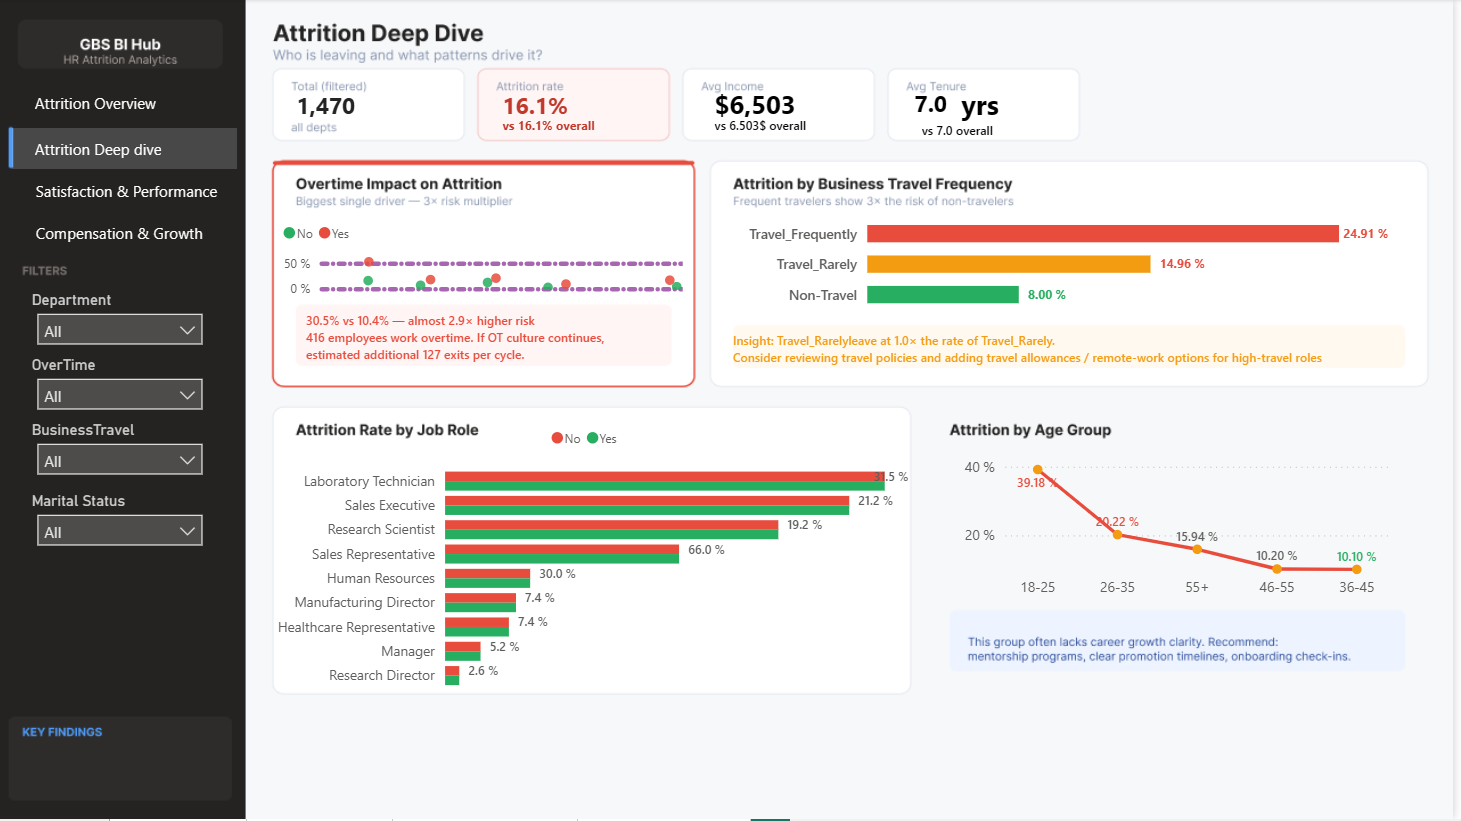

The page's visual inventory and layout, read from the dashboard file:
{"tool":"powerbi","page":{"name":"Attrition Deep Dive","canvas":[1280,720],"ordinal":1},"visuals":[{"type":"scatterChart","fields":{"Y":["Attrition Overview.Attrition Rate"],"X":["Attrition Overview.Avg Income Attrited"],"Category":["Dim_JobLevel.JobLevelName"],"Series":["Fact_Attrition.OverTime"]},"box":[253.1,191,350.6,71.6],"z":0},{"type":"cardVisual","fields":{"Data":["Attrition Overview.Total Employees"]},"box":[246.7,59.7,164.2,62.3],"z":1000},{"type":"cardVisual","fields":{"Data":["Attrition Overview.Attrition Rate %"]},"box":[427.6,60.6,168.6,61.5],"z":2000},{"type":"cardVisual","fields":{"Data":["Attrition Overview.Avg Monthly Income"]},"box":[613.8,50,110.6,81.7],"z":3000},{"type":"cardVisual","fields":{"Data":["Attrition Overview.Avg Tenure Years","Sum(Attrition Overview.Column)"]},"box":[760.4,50,169.5,81.7],"z":4000},{"type":"actionButton","box":[14.9,72.9,197.6,36.9],"z":5000},{"type":"actionButton","box":[14.9,113.3,197.6,36],"z":6000},{"type":"actionButton","box":[15.5,150,198.2,36.4],"z":7000},{"type":"actionButton","box":[15.5,187.3,198.2,36.4],"z":8000},{"type":"slicer","title":"Department","fields":{"Values":["Dim_Employee.Department"]},"box":[27.3,256.4,164.5,49.1],"z":9000},{"type":"slicer","title":"OverTime","fields":{"Values":["Fact_Attrition.OverTime"]},"box":[27.3,313.6,164.5,49.1],"z":10000},{"type":"slicer","title":"BusinessTravel","fields":{"Values":["Dim_Employee.BusinessTravel"]},"box":[27.3,370.9,164.5,49.1],"z":11000},{"type":"slicer","title":"Marital Status","fields":{"Values":["Dim_Employee.MaritalStatus"]},"box":[27.3,432.7,164.5,49.1],"z":12000},{"type":"clusteredBarChart","fields":{"Y":["Attrition Overview.Attrition Rate"],"Category":["Dim_Employee.BusinessTravel"]},"box":[655.9,174.7,572.5,109.8],"z":13000},{"type":"clusteredBarChart","fields":{"Category":["Dim_JobRole.JobRole"],"Y":["Attrition Overview.Terminated Employees"],"Series":["Fact_Attrition.Attrition"]},"box":[235.9,371,565.9,239.6],"z":14000},{"type":"lineChart","fields":{"Category":["Dim_Employee.Age Group"],"Y":["Attrition Overview.Attrition Rate"]},"box":[845.6,395.3,383.2,139.8],"z":15000},{"type":"cardVisual","fields":{"Data":["Attrition Overview.VS Overall Label"]},"box":[427.9,79.2,228.4,61.5],"z":16000},{"type":"cardVisual","fields":{"Data":["Attrition Overview.VS Overall Month"]},"box":[613.4,62.5,177.1,95.1],"z":17000},{"type":"cardVisual","fields":{"Data":["Attrition Overview.VS Overall Year"]},"box":[801.7,71.8,169.7,82],"z":18000},{"type":"cardVisual","fields":{"Data":["Attrition Overview.Attrition Full InsightOverTime"]},"box":[273.2,256.4,331,79.2],"z":19000},{"type":"cardVisual","fields":{"Data":["Attrition Overview.AttritionBussiness Insight"]},"box":[647.9,270.4,588.3,70.9],"z":20000}]}

Visuals, with their boxes on the page's 1280x720 design canvas (x1, y1, x2, y2). These are canvas units, not pixel positions in the 1461x821 screenshot, which may show the page scaled, cropped or inside an application window:
scatterChart - Attrition Overview.Attrition Rate x Attrition Overview.Avg Income Attrited: detection(253, 191, 604, 263)
cardVisual - Attrition Overview.Total Employees: detection(247, 60, 411, 122)
cardVisual - Attrition Overview.Attrition Rate %: detection(428, 61, 596, 122)
cardVisual - Attrition Overview.Avg Monthly Income: detection(614, 50, 724, 132)
cardVisual - Attrition Overview.Avg Tenure Years x Sum(Attrition Overview.Column): detection(760, 50, 930, 132)
actionButton: detection(15, 73, 212, 110)
actionButton: detection(15, 113, 212, 149)
actionButton: detection(16, 150, 214, 186)
actionButton: detection(16, 187, 214, 224)
"Department" slicer: detection(27, 256, 192, 306)
"OverTime" slicer: detection(27, 314, 192, 363)
"BusinessTravel" slicer: detection(27, 371, 192, 420)
"Marital Status" slicer: detection(27, 433, 192, 482)
clusteredBarChart - Attrition Overview.Attrition Rate x Dim_Employee.BusinessTravel: detection(656, 175, 1228, 284)
clusteredBarChart - Dim_JobRole.JobRole x Attrition Overview.Terminated Employees: detection(236, 371, 802, 611)
lineChart - Dim_Employee.Age Group x Attrition Overview.Attrition Rate: detection(846, 395, 1229, 535)
cardVisual - Attrition Overview.VS Overall Label: detection(428, 79, 656, 141)
cardVisual - Attrition Overview.VS Overall Month: detection(613, 62, 790, 158)
cardVisual - Attrition Overview.VS Overall Year: detection(802, 72, 971, 154)
cardVisual - Attrition Overview.Attrition Full InsightOverTime: detection(273, 256, 604, 336)
cardVisual - Attrition Overview.AttritionBussiness Insight: detection(648, 270, 1236, 341)
